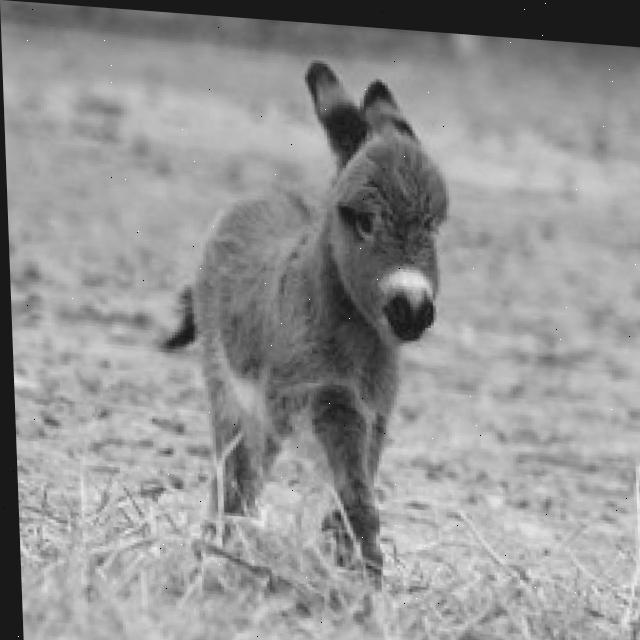Donkey: (147, 45, 464, 593)
